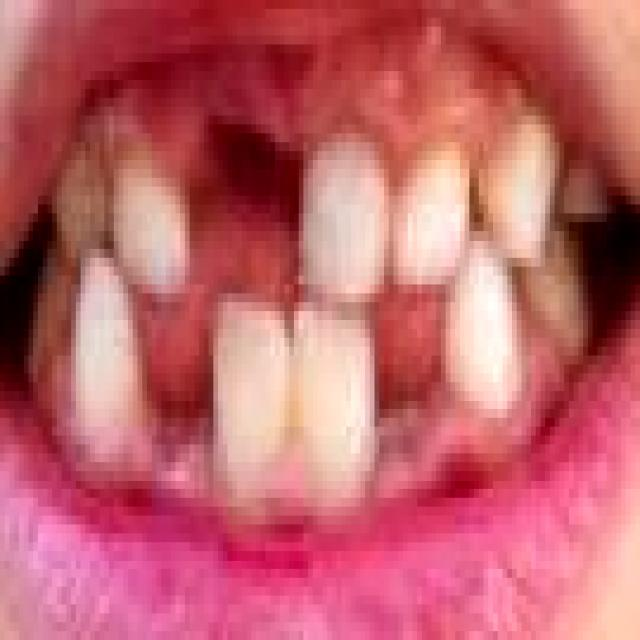hypodontia: (153, 101, 322, 285), (356, 279, 484, 485), (123, 281, 230, 478)
